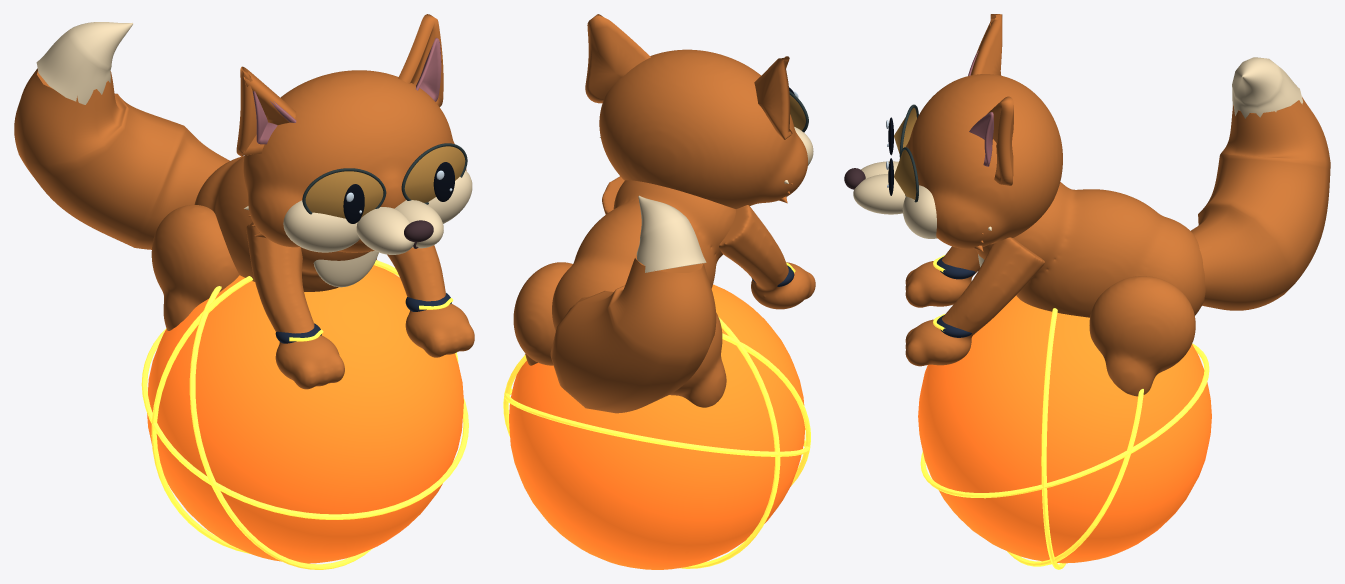
Rendered from orange-fox.glb.
3 renders of one model, left to right at view 1: azimuth 30°, elevation 25°; view 2: azimuth 150°, elevation 25°; view 3: azimuth 270°, elevation 25°, orthographic. The views are drawn at different scales.
Visible parts, largest first — view 1: Gliding orb, Brush tail, Feline head sculpt, Foreleg and soft paw, Bent rear leg, Foreleg and soft paw.001, Ivory brush tip, Cat torso sculpt, Orb energy ring, Cream fox cheek, Outer ear, Orb energy ring.001 (+12 smaller); view 2: Gliding orb, Feline head sculpt, Brush tail, Cat torso sculpt, Foreleg and soft paw, Ivory brush tip, Bent rear leg.001, Outer ear.001, Bent rear leg, Outer ear, Orb energy ring, Orb energy ring.002 (+2 smaller); view 3: Gliding orb, Brush tail, Feline head sculpt, Cat torso sculpt, Bent rear leg.001, Foreleg and soft paw.001, Ivory brush tip, Foreleg and soft paw, Orb energy ring, Outer ear.001, Orb energy ring.002, Fox muzzle.001 (+5 smaller).
Boxes of the visible parts, x1,y1,x2,y2 form: Gliding orb: (147, 265, 463, 563); Brush tail: (14, 68, 229, 249); Feline head sculpt: (243, 70, 466, 252); Foreleg and soft paw: (246, 222, 344, 389); Bent rear leg: (151, 205, 239, 330); Foreleg and soft paw.001: (387, 245, 474, 357); Ivory brush tip: (36, 22, 132, 104); Cat torso sculpt: (194, 156, 369, 291); Orb energy ring: (141, 328, 468, 519); Cream fox cheek: (283, 200, 359, 252); Outer ear: (236, 66, 296, 156); Orb energy ring.001: (189, 286, 372, 569); Gliding orb: (509, 284, 805, 569); Feline head sculpt: (599, 49, 807, 208); Brush tail: (550, 255, 716, 413); Cat torso sculpt: (552, 180, 735, 330); Foreleg and soft paw: (719, 205, 815, 309); Ivory brush tip: (636, 195, 706, 272); Bent rear leg.001: (513, 262, 572, 365); Outer ear.001: (585, 14, 650, 103); Bent rear leg: (669, 312, 726, 407); Outer ear: (754, 56, 792, 139); Orb energy ring: (504, 388, 809, 456); Orb energy ring.002: (679, 317, 780, 568); Gliding orb: (918, 295, 1211, 563); Brush tail: (1191, 97, 1330, 310); Feline head sculpt: (906, 74, 1062, 248); Cat torso sculpt: (976, 182, 1205, 317); Bent rear leg.001: (1089, 276, 1195, 396); Foreleg and soft paw.001: (905, 237, 1044, 366); Ivory brush tip: (1232, 57, 1302, 118); Foreleg and soft paw: (905, 246, 980, 307); Orb energy ring: (920, 343, 1209, 498); Outer ear.001: (987, 96, 1013, 185); Orb energy ring.002: (1041, 308, 1065, 569); Fox muzzle.001: (853, 174, 905, 214).
Size of the model in its own units: 1.64 by 2.7 by 2.38.
